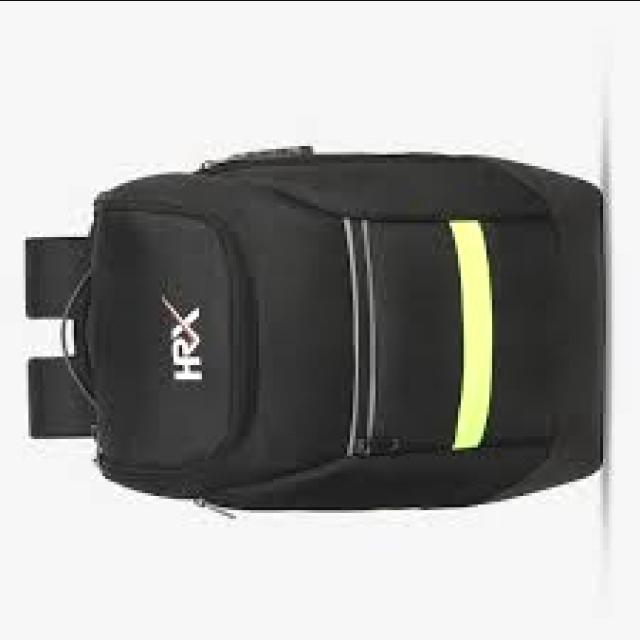backpack: (24, 147, 607, 519)
